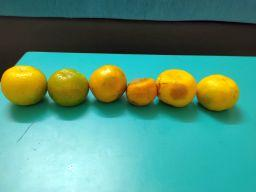orange: (0, 65, 47, 106), (47, 68, 89, 107), (197, 74, 240, 112), (89, 64, 127, 103), (157, 69, 196, 107), (127, 78, 157, 106)
